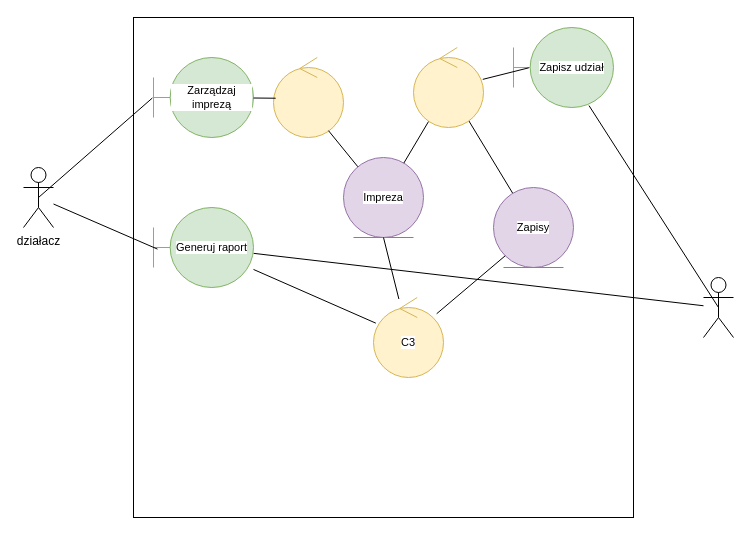
Image size: 755x535. Some labels were removed from this diagram. The box of each missing label's shape, as (x1, y1, x2, y2) in pixels:
C1: (272, 56, 344, 138)
C2: (412, 46, 484, 128)
student: (702, 276, 734, 338)
